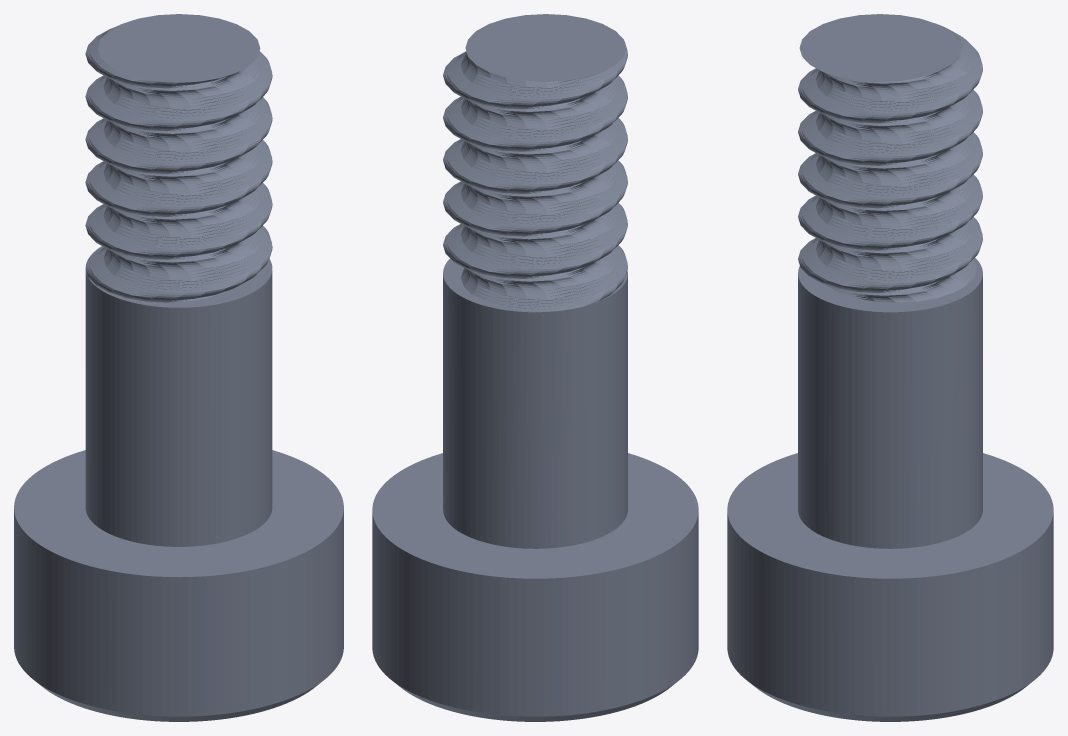
Rendered from screw_grey.dae.
3 renders of one model, left to right at view 1: azimuth 30°, elevation 25°; view 2: azimuth 150°, elevation 25°; view 3: azimuth 270°, elevation 25°, orthographic.
Parts seen in each view (by area): view 1: _c643ccbc4db44196f113ea1; view 2: _c643ccbc4db44196f113ea1; view 3: _c643ccbc4db44196f113ea1.
Part boxes in pixels (x1,y1,x2,y2): _c643ccbc4db44196f113ea1: [14, 14, 343, 721]; _c643ccbc4db44196f113ea1: [372, 14, 698, 721]; _c643ccbc4db44196f113ea1: [727, 14, 1053, 721].
Bounding box in the file's own units: 0.03 × 0.03 × 0.0616.
